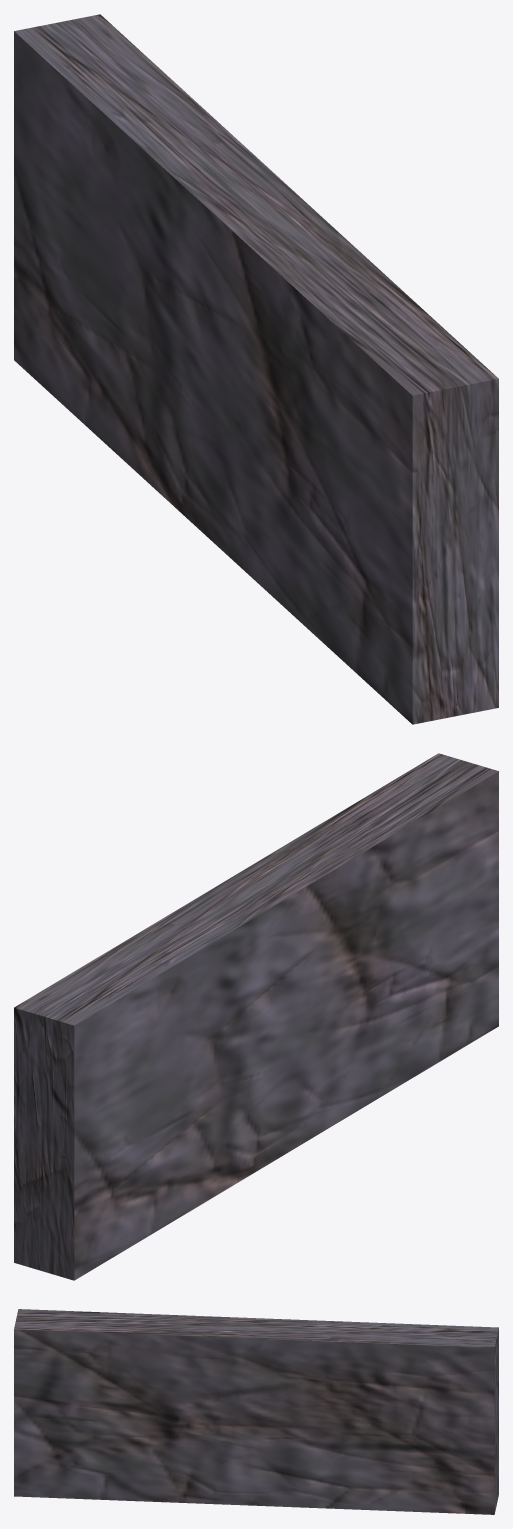
File: Wall_side.fbx
3 views of the same model, one above another, from view 1: azimuth 30°, elevation 25°; view 2: azimuth 150°, elevation 25°; view 3: azimuth 270°, elevation 25° (orthographic). The views are drawn at different scales.
Visible parts, largest first — view 1: wall; view 2: wall; view 3: wall.
Boxes of the visible parts, <box> form: wall: <box>14,14,498,724</box>; wall: <box>14,753,498,1280</box>; wall: <box>14,1309,498,1514</box>.
Size of the model in its own units: 572 by 1148 by 3019.
Materials: 1 (1 with a texture image).
